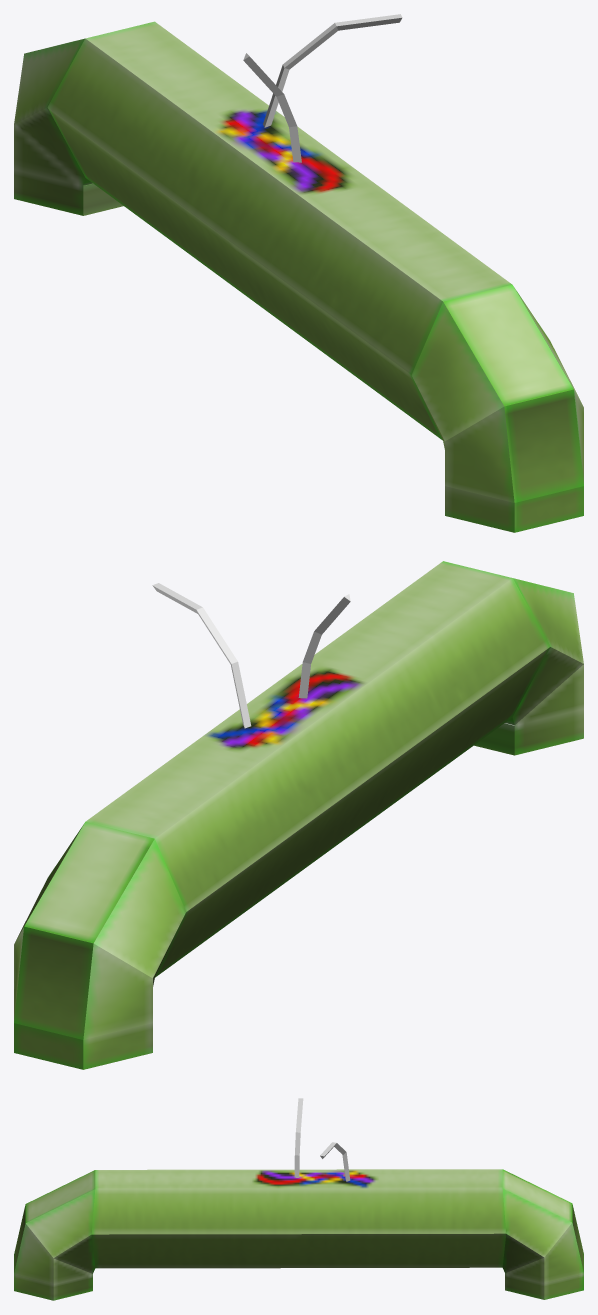
File: Wiretube.FBX
The picture shows the model from 3 angles, top to bottom: view 1: azimuth 30°, elevation 25°; view 2: azimuth 150°, elevation 25°; view 3: azimuth 270°, elevation 25°; orthographic projection. The views are drawn at different scales.
Visible parts, largest first — view 1: TubeWire, Wire01, Wire00; view 2: TubeWire, Wire01, Wire00; view 3: TubeWire, Wire00, Wire01.
Boxes of the visible parts, left/top/right/bottom form: TubeWire: left=14, top=21, right=583, bottom=532; Wire01: left=263, top=14, right=402, bottom=127; Wire00: left=243, top=53, right=301, bottom=162; TubeWire: left=14, top=561, right=583, bottom=1069; Wire01: left=152, top=583, right=251, bottom=728; Wire00: left=298, top=594, right=350, bottom=698; TubeWire: left=14, top=1169, right=583, bottom=1300; Wire00: left=294, top=1098, right=303, bottom=1177; Wire01: left=320, top=1142, right=350, bottom=1181.
Bounding box in the file's own units: 8.79 × 12.9 × 39.34.
1 material, 1 textured.
